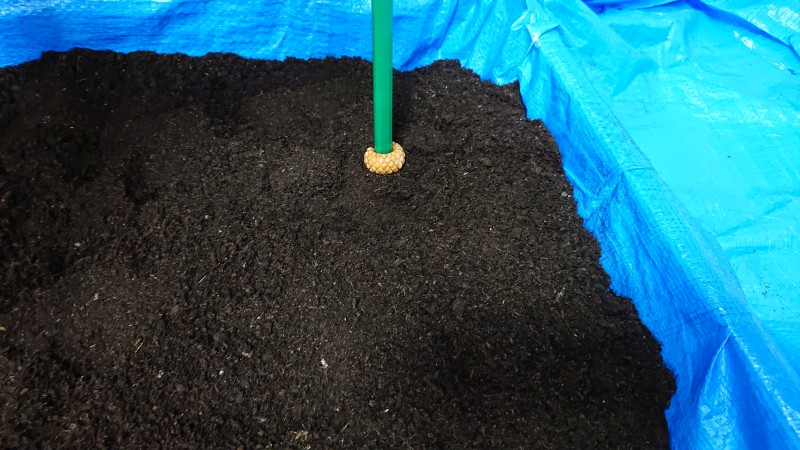eggs: (360, 136, 409, 175)
